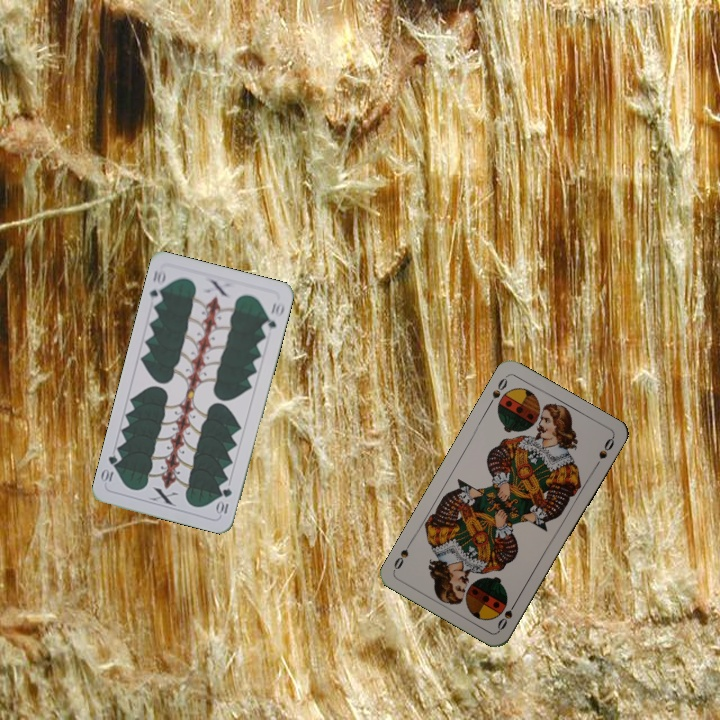G10: (145, 265, 168, 307), (213, 484, 235, 518)
SO: (493, 596, 520, 633), (484, 372, 510, 409)
